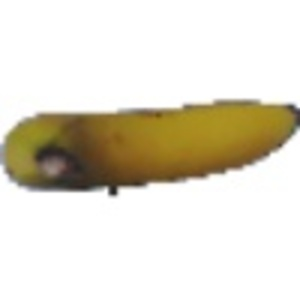banana: (3, 100, 295, 200)
